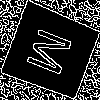M: (25, 26, 82, 82)
